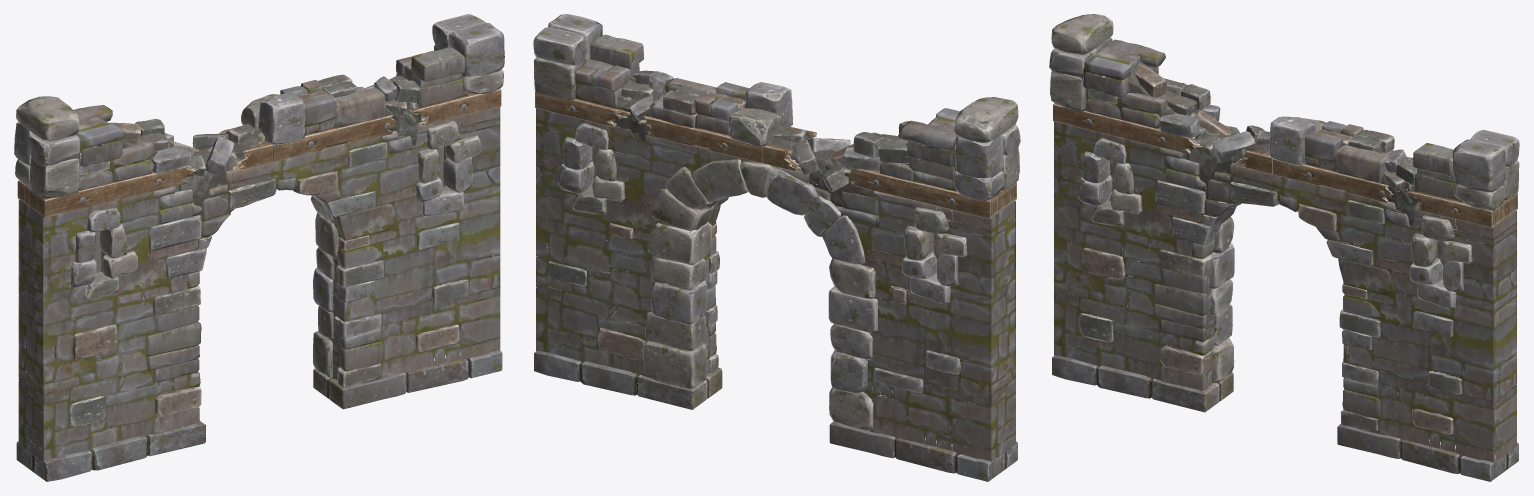
3 renders of one model, left to right at view 1: azimuth 30°, elevation 25°; view 2: azimuth 150°, elevation 25°; view 3: azimuth 330°, elevation 25°, orthographic. The views are drawn at different scales.
Parts seen in each view (by area): view 1: SM_Castle_Wall_Door_8x6_01_Dmg_v1_LOD0; view 2: SM_Castle_Wall_Door_8x6_01_Dmg_v1_LOD0; view 3: SM_Castle_Wall_Door_8x6_01_Dmg_v1_LOD0.
Boxes of the visible parts, x1,y1,x2,y2 form: SM_Castle_Wall_Door_8x6_01_Dmg_v1_LOD0: [14, 14, 504, 481]; SM_Castle_Wall_Door_8x6_01_Dmg_v1_LOD0: [533, 14, 1020, 481]; SM_Castle_Wall_Door_8x6_01_Dmg_v1_LOD0: [1049, 14, 1519, 481].
Bounding box in the file's own units: 8.08 × 6.04 × 1.12.
6 materials, 6 textured.
